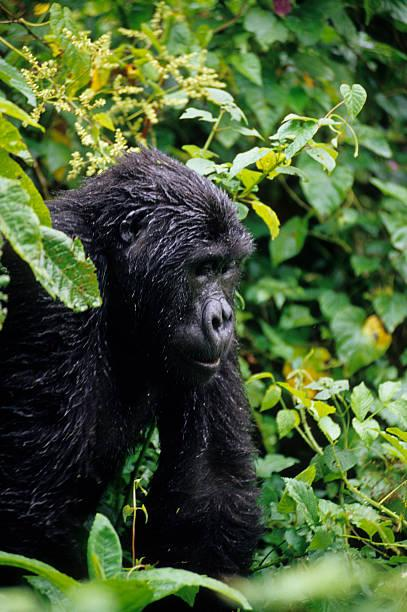goriile_montagne: (22, 154, 310, 612)
